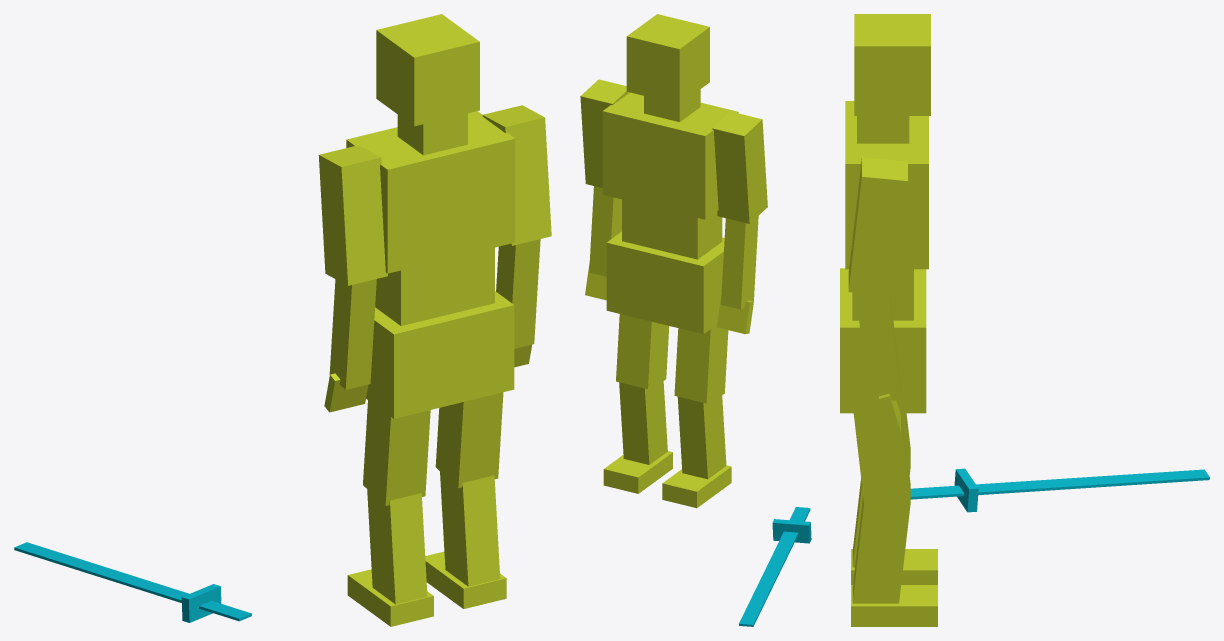
The picture shows the model from 3 angles, left to right: view 1: azimuth 30°, elevation 25°; view 2: azimuth 150°, elevation 25°; view 3: azimuth 270°, elevation 25°; orthographic projection. The views are drawn at different scales.
Visible parts, largest first — view 1: spine_1, hips, head, arm, spine, leg_2, leg_3, leg, leg_1, arm_1, arm_2, arm_3 (+6 smaller); view 2: spine_1, hips, head, arm, spine, leg, leg_3, leg_2, leg_1, arm_2, arm_1, arm_3 (+7 smaller); view 3: head, arm_1, hips, spine_1, leg_3, leg_1, arm_3, blade, foot_1, neck, foot, spine (+2 smaller).
Boxes of the visible parts, x1,y1,x2,y2 form: spine_1: (346, 111, 515, 273); hips: (366, 291, 514, 418); head: (376, 14, 479, 126); arm: (318, 145, 387, 285); spine: (375, 247, 494, 325); leg_2: (367, 489, 427, 604); leg_3: (440, 471, 500, 586); leg: (363, 400, 430, 505); leg_1: (435, 392, 503, 488); arm_1: (482, 105, 551, 245); arm_2: (329, 279, 376, 389); arm_3: (496, 239, 540, 348); spine_1: (602, 92, 738, 219); hips: (606, 231, 724, 334); head: (626, 14, 709, 104); arm: (712, 111, 767, 223); spine: (622, 199, 722, 259); leg: (674, 324, 728, 403); leg_3: (619, 381, 667, 464); leg_2: (677, 395, 726, 479); leg_1: (616, 314, 669, 389); arm_2: (721, 216, 758, 309); arm_1: (580, 79, 629, 187); arm_3: (589, 186, 621, 276); head: (854, 14, 930, 115); arm_1: (848, 157, 907, 296); hips: (840, 268, 926, 413); spine_1: (845, 101, 928, 269); leg_3: (852, 496, 910, 603); leg_1: (853, 413, 910, 509); arm_3: (856, 293, 901, 402); blade: (910, 469, 1209, 499); foot_1: (851, 585, 937, 626); neck: (857, 116, 909, 143); foot: (851, 549, 937, 584); spine: (852, 269, 913, 320).
Bounding box in the file's own units: 199 × 296 × 174.
